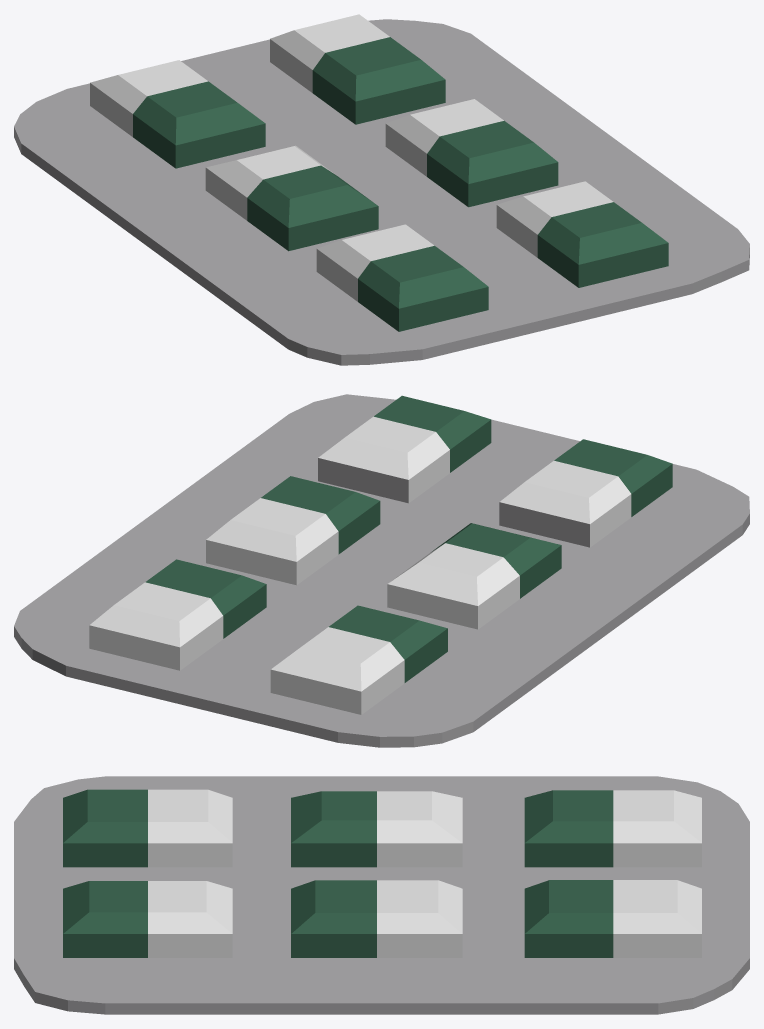
File: TabletkiBiryza.fbx
3 views of the same model, one above another, from view 1: azimuth 30°, elevation 25°; view 2: azimuth 150°, elevation 25°; view 3: azimuth 270°, elevation 25° (orthographic). The views are drawn at different scales.
Parts seen in each view (by area): view 1: Cube; view 2: Cube; view 3: Cube.
Boxes of the visible parts, x1,y1,x2,y2 form: Cube: (14, 14, 749, 365); Cube: (14, 394, 749, 747); Cube: (14, 776, 749, 1014).
Size of the model in its own units: 359 by 36.74 by 492.
